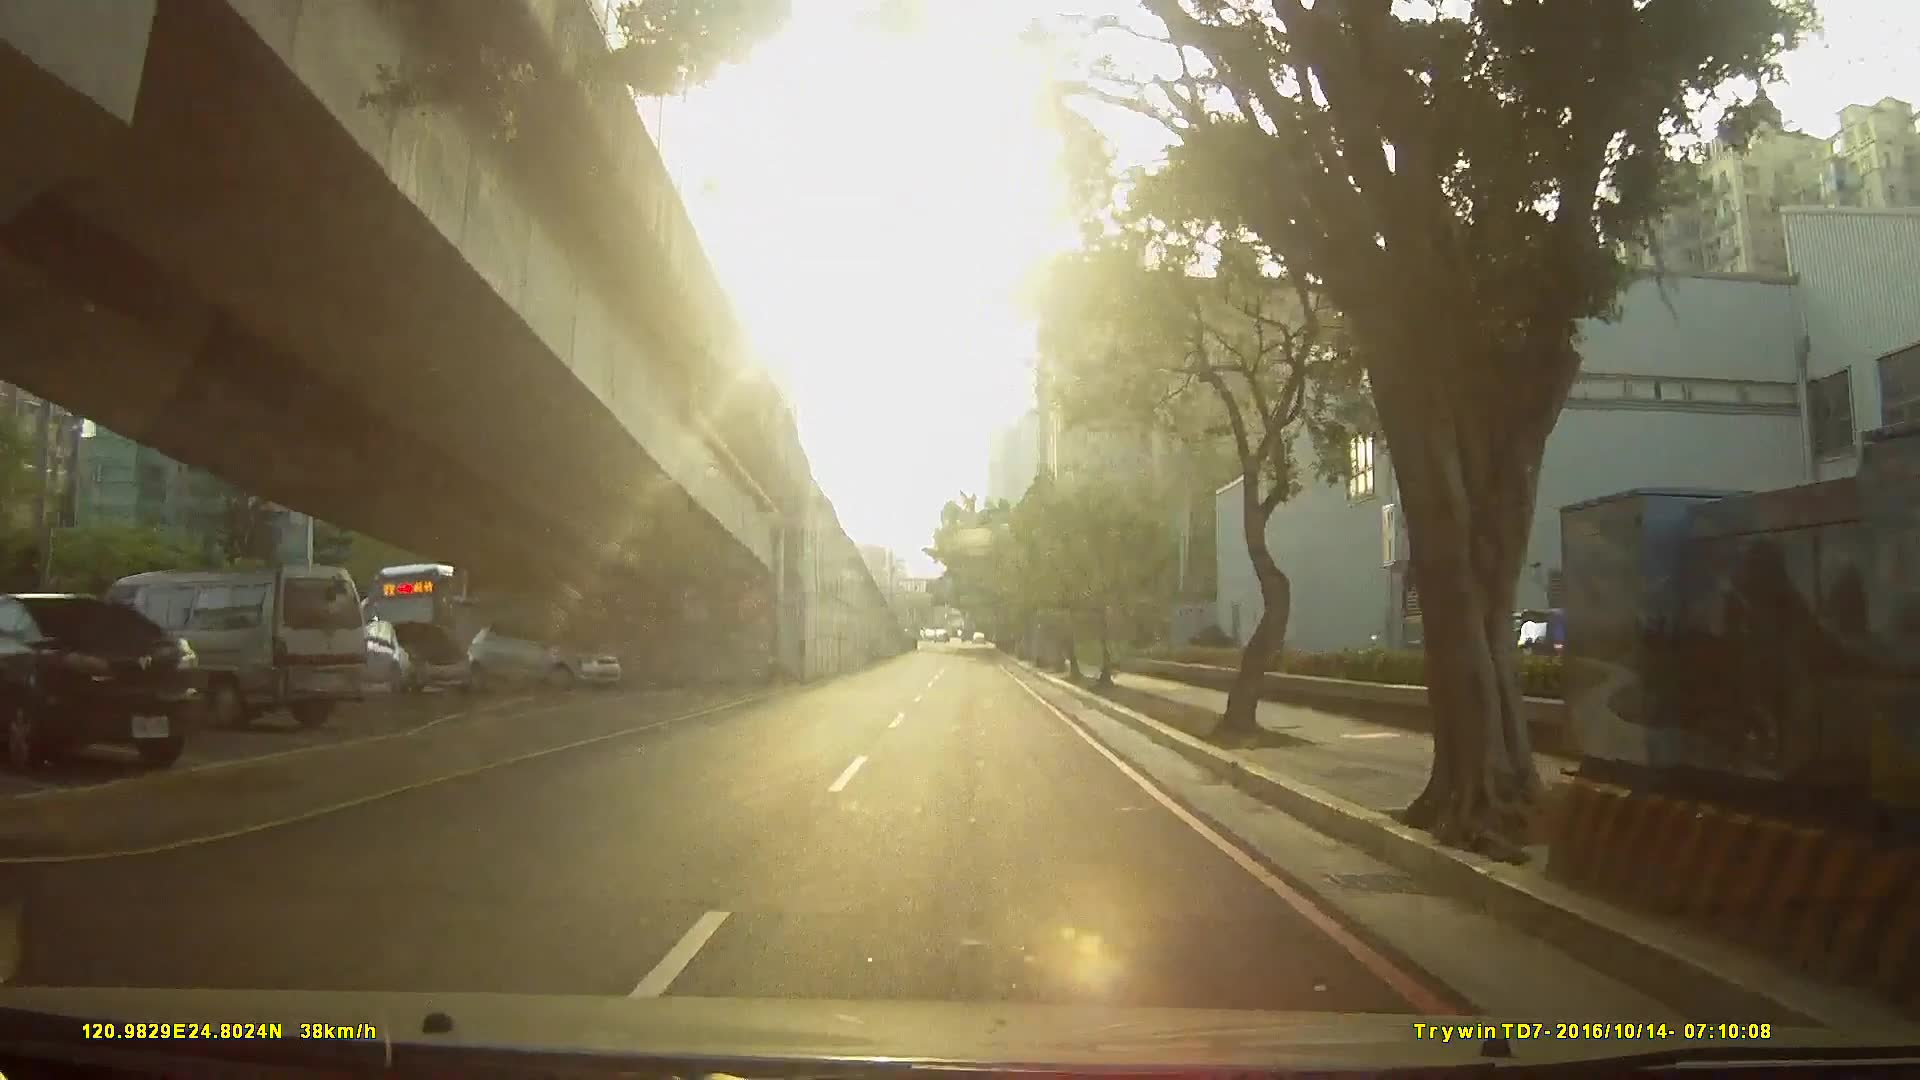vehicle: (62, 563, 355, 740), (1, 589, 228, 778), (356, 563, 553, 691), (458, 618, 621, 694), (344, 618, 469, 699)
